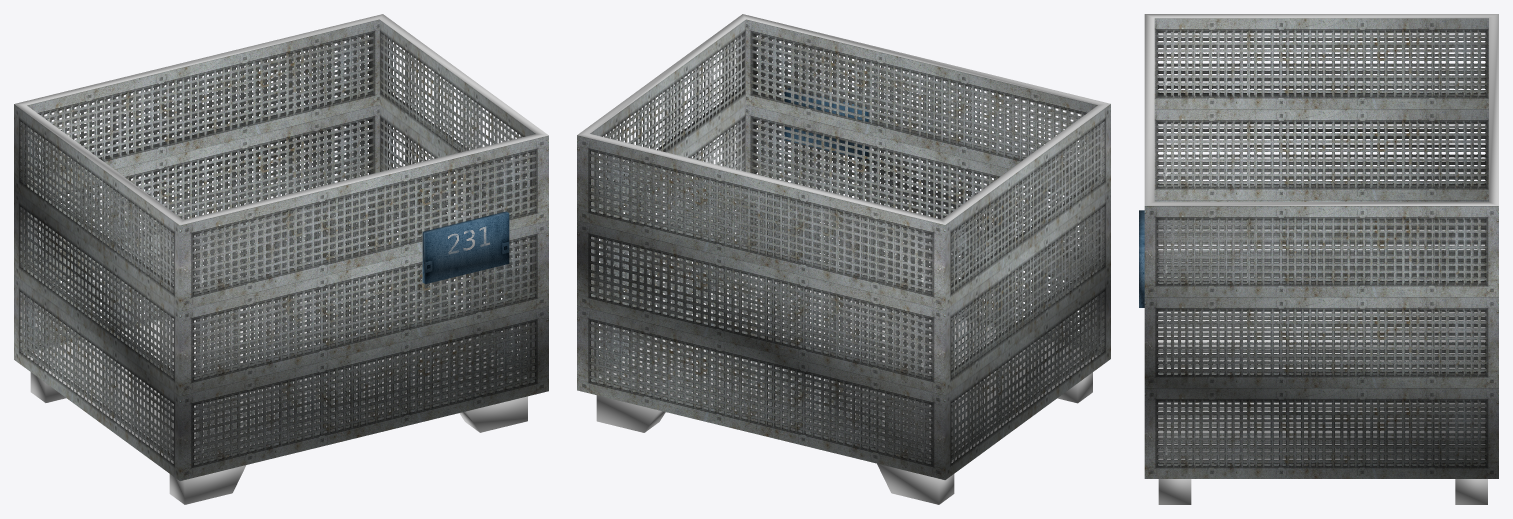
File: grate_box.fbx
3 renders of one model, left to right at view 1: azimuth 30°, elevation 25°; view 2: azimuth 150°, elevation 25°; view 3: azimuth 270°, elevation 25°, orthographic. The views are drawn at different scales.
Parts seen in each view (by area): view 1: Mesh; view 2: Mesh; view 3: Mesh.
Part boxes in pixels (x1,y1,x2,y2): Mesh: (14, 14, 548, 504); Mesh: (577, 14, 1110, 504); Mesh: (1139, 14, 1498, 504).
Size of the model in its own units: 149 by 111 by 118.
